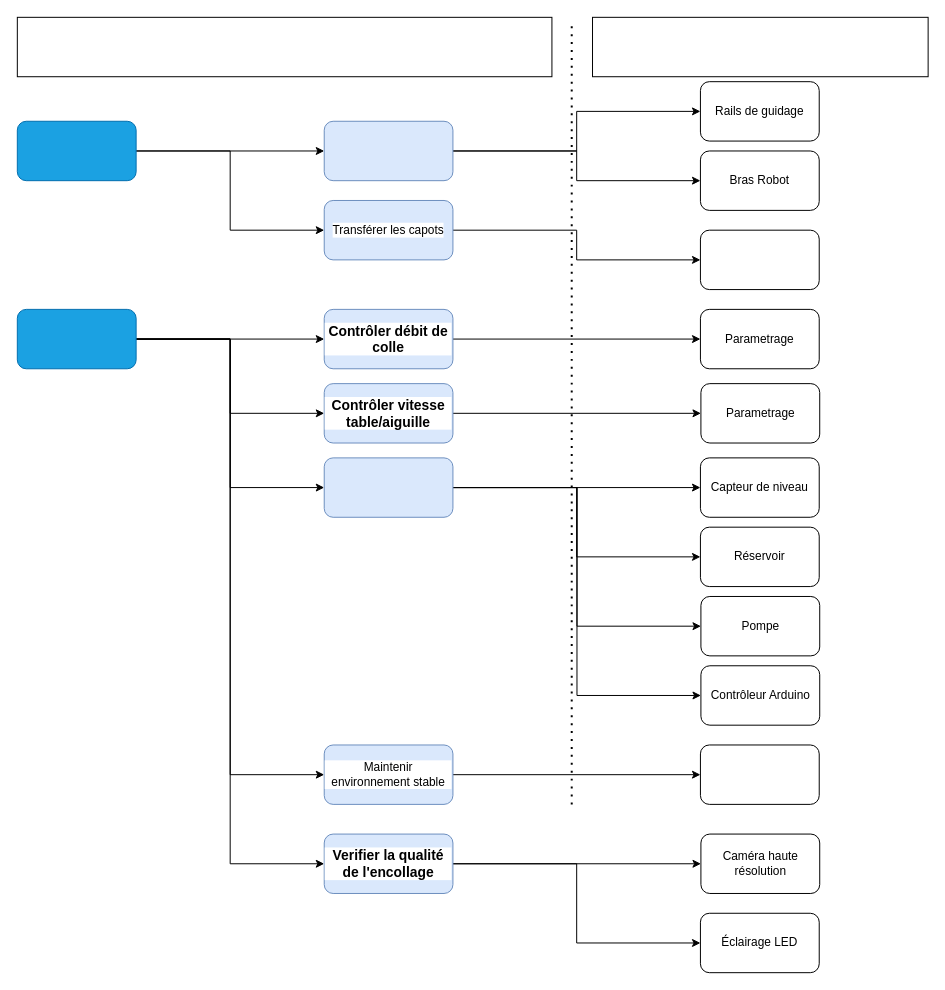
This 945x990 diagram has some shape labels left out. The shapes that lost their labels are listed below. From the top down, each one's centre as x and y in pixels, then its label:
At (x=284, y=46): "Fonctions".
At (x=760, y=46): "Solution techniques".
At (x=76, y=150): "Commander et contrôler le procédé".
At (x=388, y=150): "Positionner capots".
At (x=759, y=259): "Table XY motorisée".
At (x=76, y=338): "Déposer la colle avec stabilité et précision".
At (x=388, y=487): "Alimenter en colle".
At (x=759, y=774): "Regulateur de temperature".
